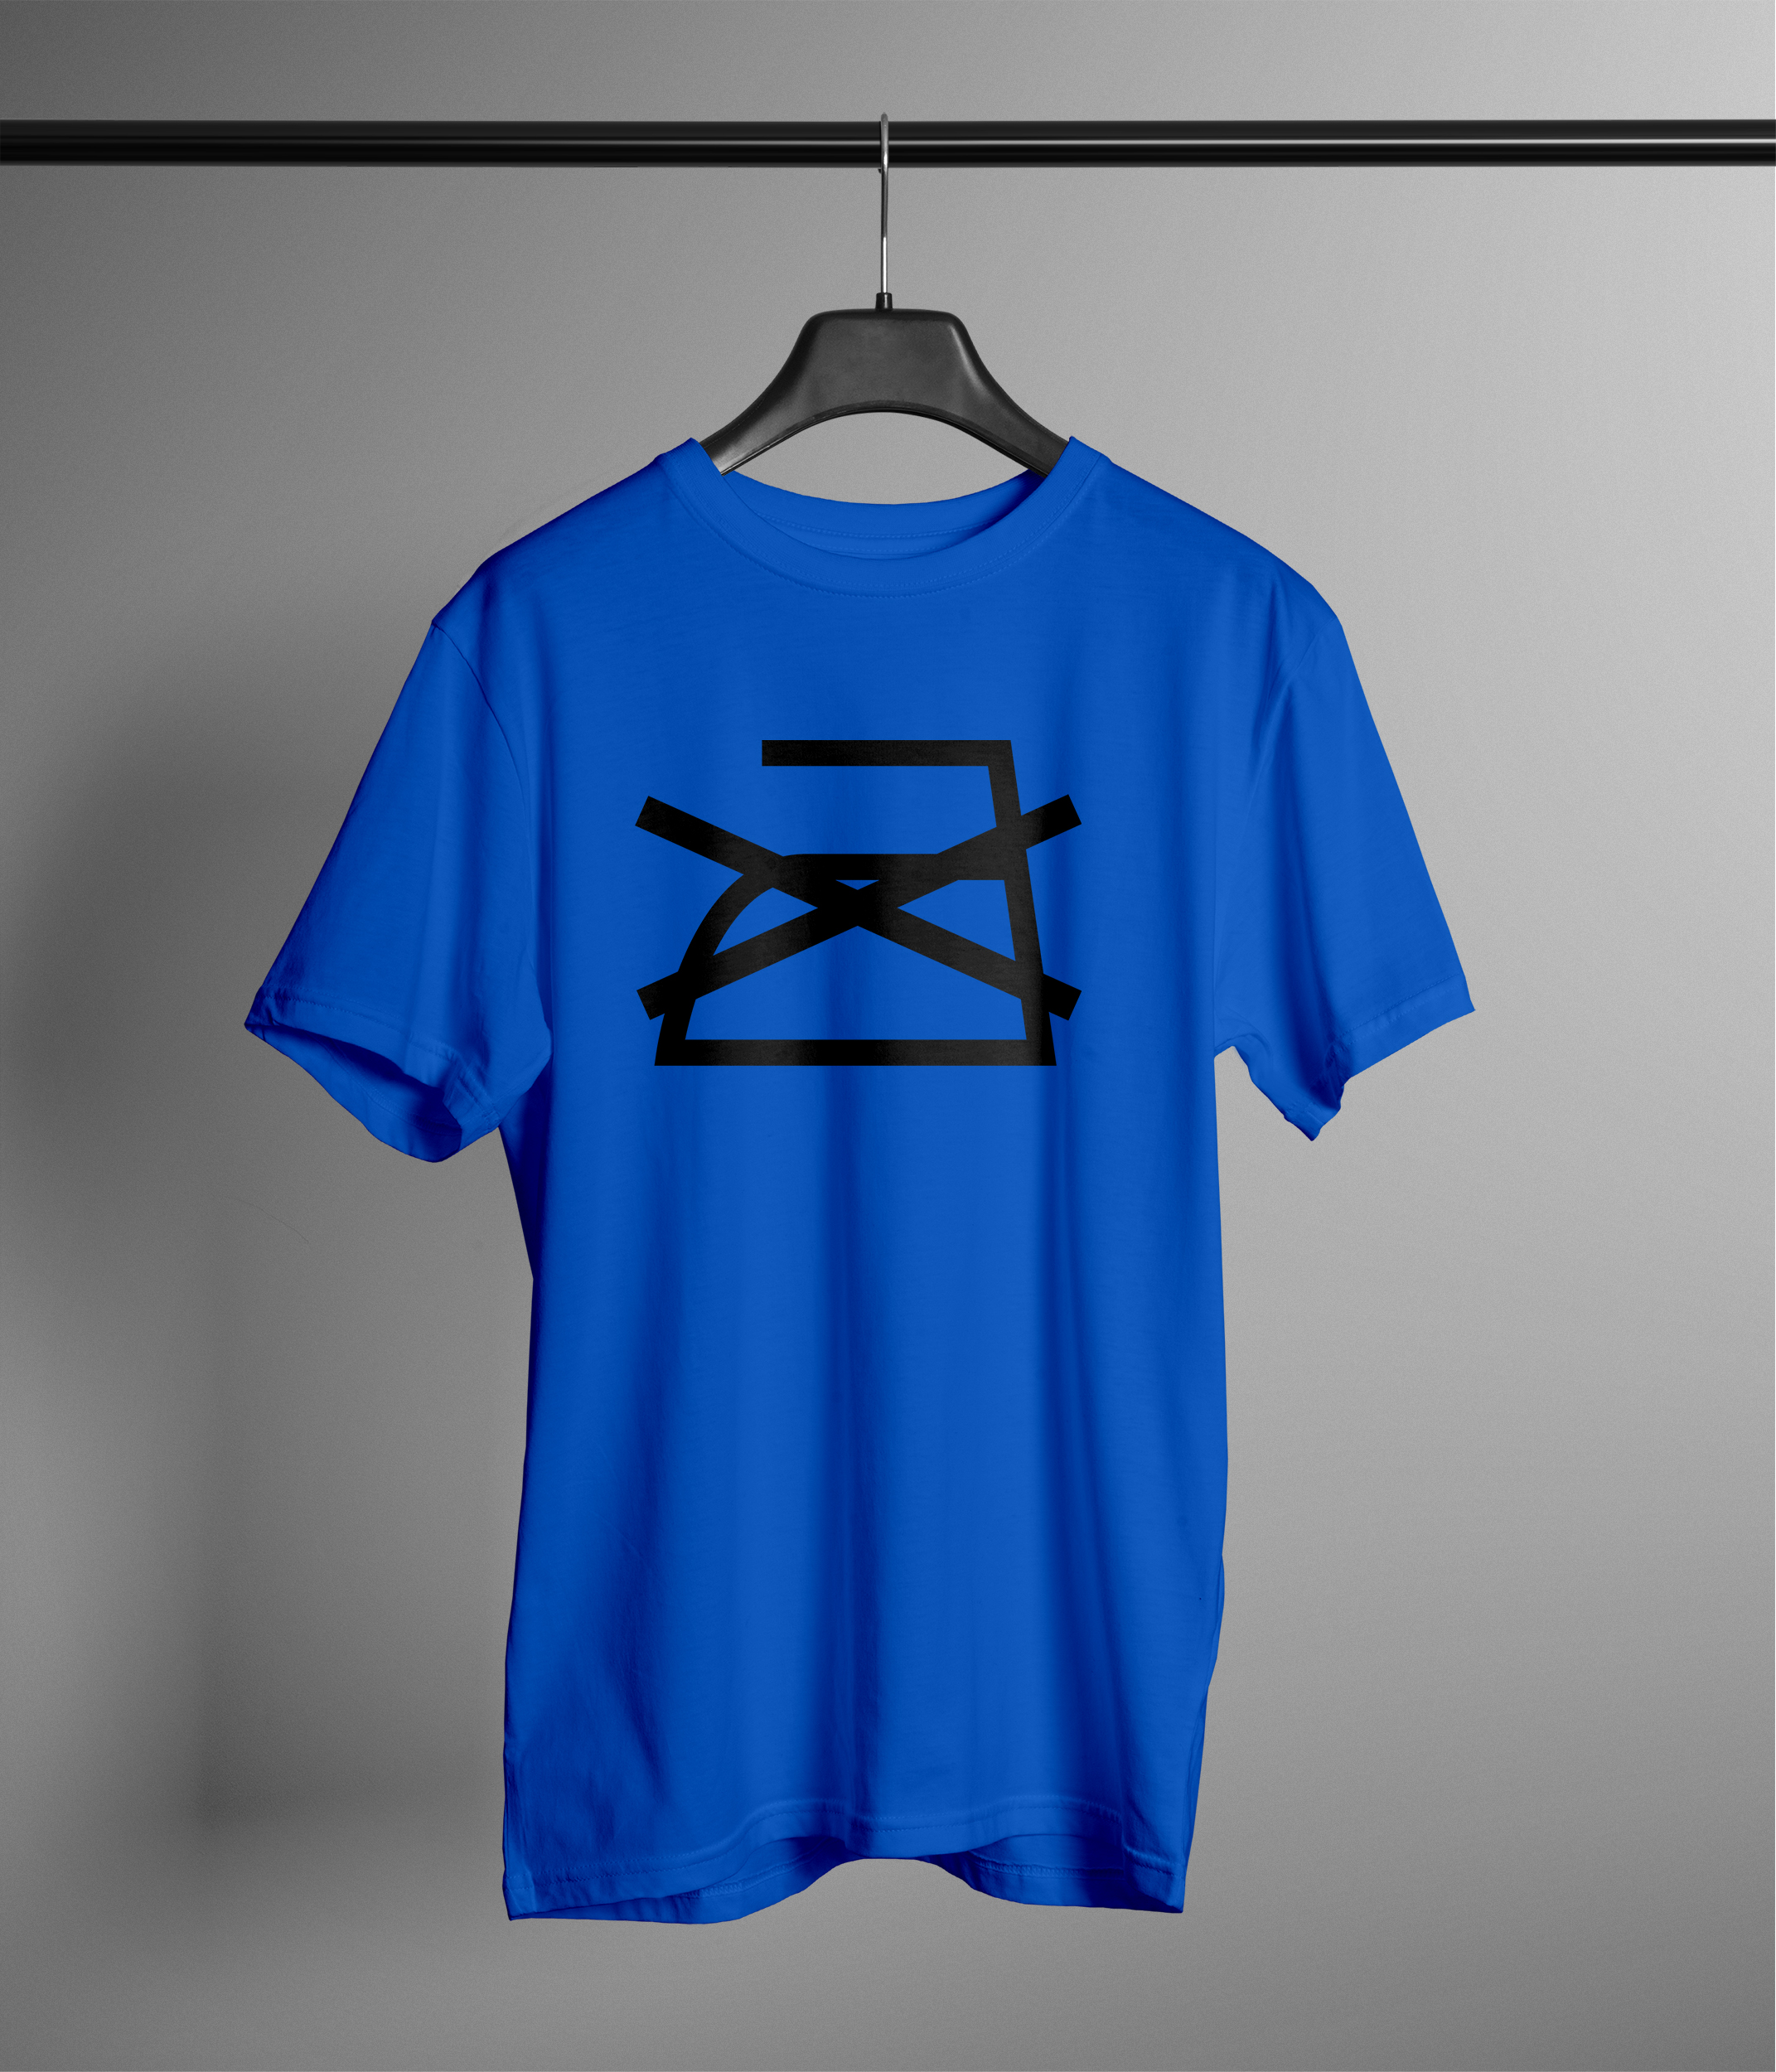do_not_iron: (636, 731, 1078, 1059)
